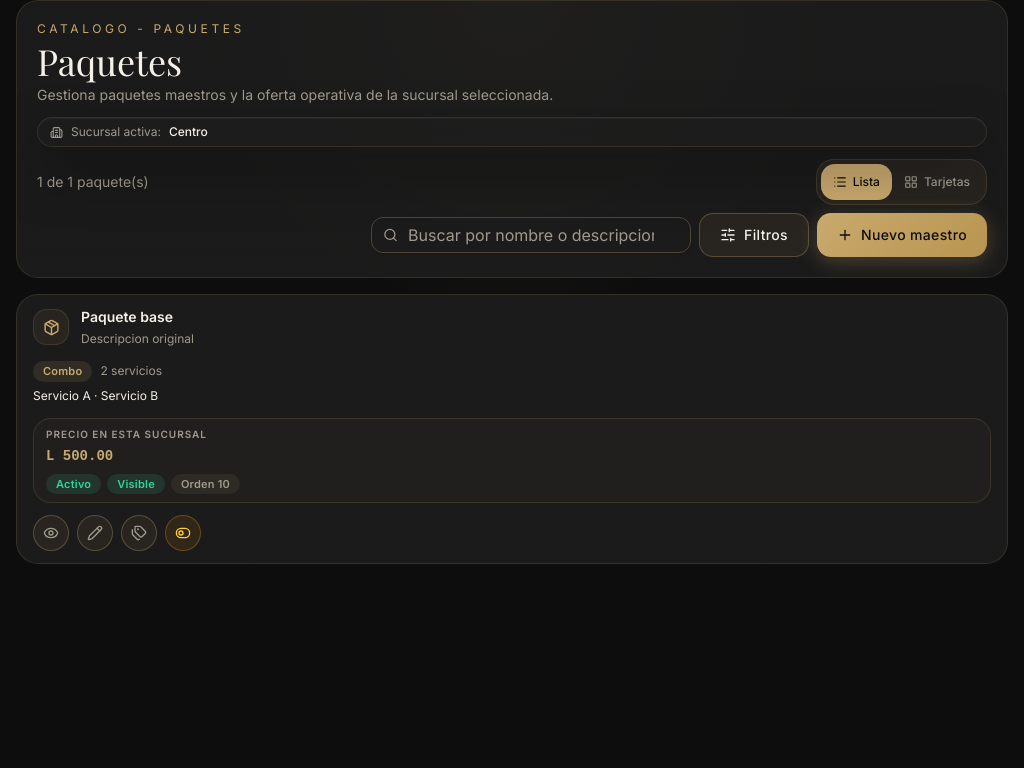
Test case: QA06: errores desconocidos no exponen detalles técnicos
This screenshot has width=1024, height=768.
Expected: the heading "Paquete base" is shown, [81,308,173,325]
Click the button named "Editar maestro" at (95, 533), box [77,515,113,551]
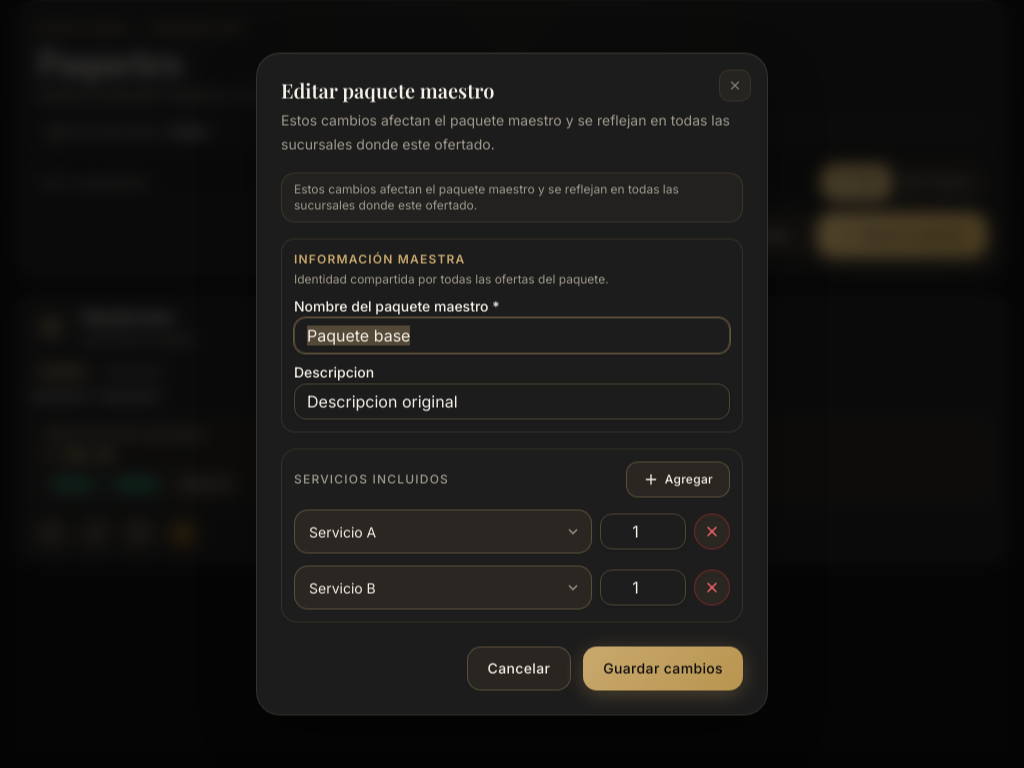
Replace the text in the field labelled "Nombre del paquete maestro *" with "Nuevo nombre" at (512, 336), box [294,318,730,354]
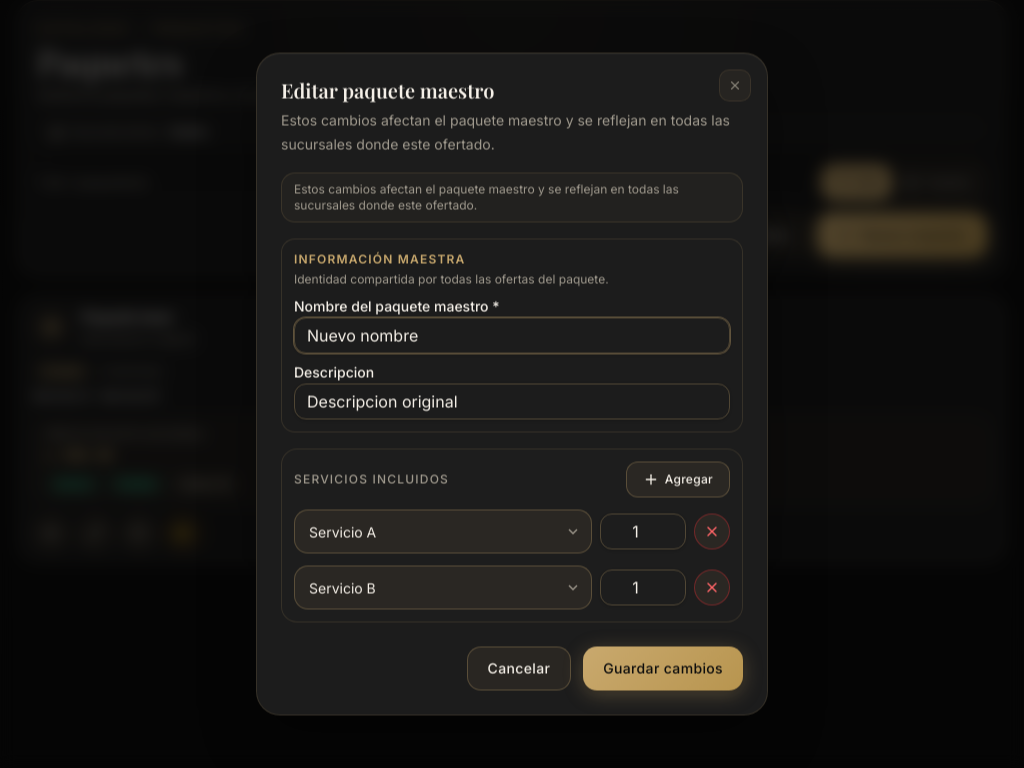
Click the button "Guardar cambios" at (663, 668), box [583,646,743,690]
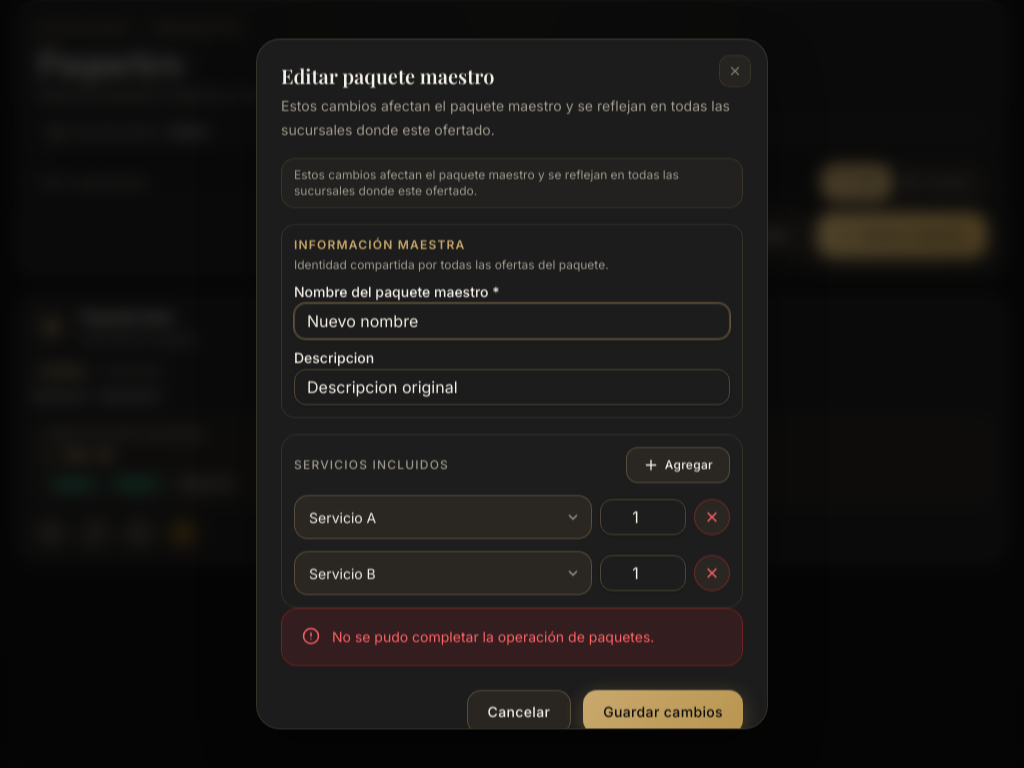
Expected: the message reads "No se pudo completar la operación de paquetes.", [332,628,654,645]
